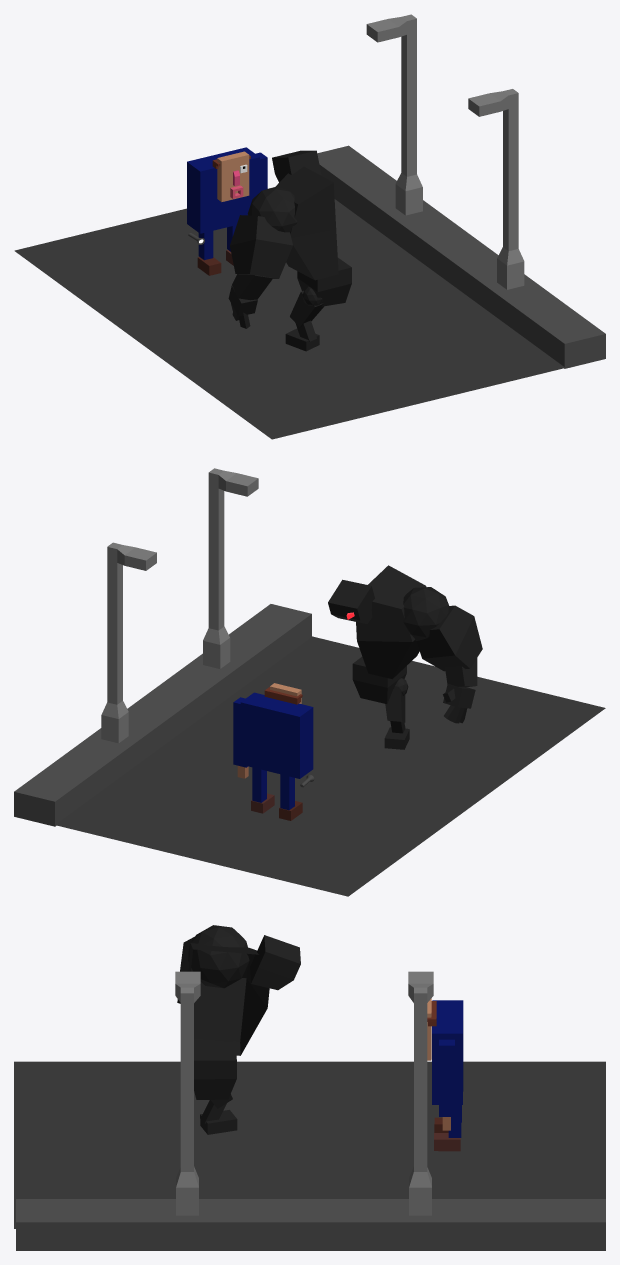
File: old_men_and_the_monster_origin.glb
3 views of the same model, one above another, from view 1: azimuth 30°, elevation 25°; view 2: azimuth 150°, elevation 25°; view 3: azimuth 270°, elevation 25° (orthographic). The views are drawn at different scales.
Visible parts, largest first — view 1: Prostokąt, Kostka.022, Kostka.012, Kostka.023, Kostka.025, Cube, Kostka.013, Kula ico.001, Kostka.008, Cube.001, Kostka.020, Kostka.014 (+1 smaller); view 2: Prostokąt, Kostka.022, Cube, Kostka.012, Kostka.023, Kostka.025, Kostka.013, Kula ico.001, Kostka.020, Kostka.008, Kostka.014, Kostka.009; view 3: Prostokąt, Kostka.022, Kostka.012, Kostka.023, Kostka.025, Kula ico.001, Kostka.008, Cube, Kostka.020, Cube.002, Kostka.011, Kostka.001.
Part boxes in pixels (box(x1,y1,x2,y2)): Prostokąt: box(14, 187, 570, 439); Kostka.022: box(317, 145, 605, 368); Kostka.012: box(275, 166, 338, 280); Kostka.023: box(468, 89, 524, 289); Kostka.025: box(366, 14, 422, 215); Cube: box(187, 147, 259, 233); Kostka.013: box(230, 215, 292, 278); Kula ico.001: box(247, 187, 297, 232); Kostka.008: box(297, 257, 351, 306); Cube.001: box(217, 151, 249, 201); Kostka.020: box(272, 150, 321, 182); Kostka.014: box(232, 274, 272, 300); Prostokąt: box(55, 636, 605, 896); Kostka.022: box(14, 604, 311, 826); Cube: box(240, 692, 313, 778); Kostka.012: box(356, 565, 426, 679); Kostka.023: box(203, 468, 258, 668); Kostka.025: box(101, 542, 156, 743); Kostka.013: box(416, 605, 482, 671); Kula ico.001: box(403, 587, 449, 640); Kostka.020: box(328, 579, 374, 623); Kostka.008: box(352, 657, 406, 703); Kostka.014: box(445, 658, 477, 687); Kostka.009: box(385, 689, 405, 722); Prostokąt: box(14, 1061, 605, 1228); Kostka.022: box(16, 1199, 605, 1250); Kostka.012: box(188, 943, 269, 1055); Kostka.023: box(175, 971, 200, 1215); Kostka.025: box(408, 971, 433, 1215); Kula ico.001: box(188, 925, 249, 988); Kostka.008: box(194, 1041, 236, 1099); Cube: box(432, 1000, 463, 1104); Kostka.020: box(250, 935, 300, 990); Cube.002: box(439, 1039, 454, 1116); Kostka.011: box(200, 1110, 237, 1134); Kostka.001: box(434, 1133, 460, 1151).
Bounding box in the file's own units: 11.26 × 6.97 × 15.03.
